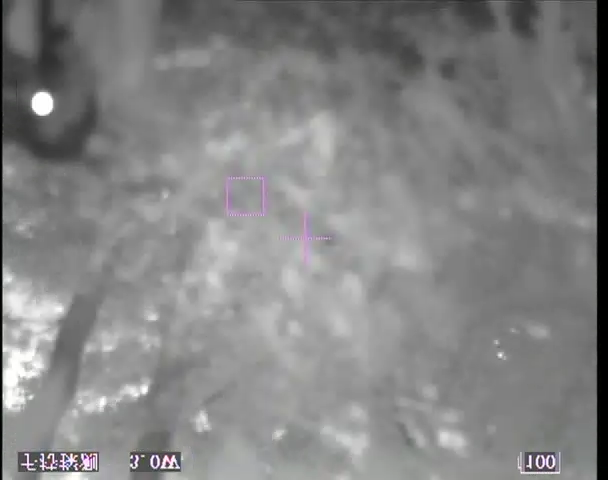my: (28, 88, 54, 118)
